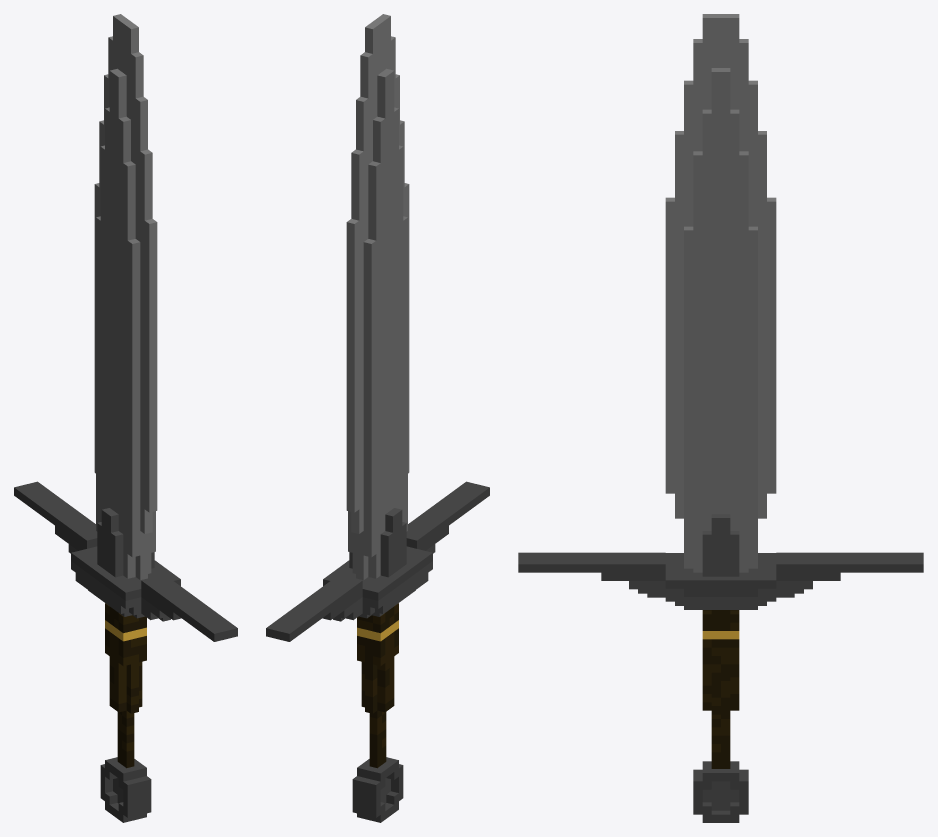
Rendered from broadsword.obj.
The picture shows the model from 3 angles, left to right: view 1: azimuth 30°, elevation 25°; view 2: azimuth 150°, elevation 25°; view 3: azimuth 270°, elevation 25°; orthographic projection.
Visible parts, largest first — view 1: Box_3, Box_8, Box_1, Box_2, Box_5, Box, Box_4, Box_7; view 2: Box_3, Box_8, Box_1, Box_2, Box_4, Box, Box_5, Box_7; view 3: Box_3, Box_8, Box_1, Box_2, Box_4, Box_5, Box, Box_7, Box_6.
Boxes of the visible parts, bbox=[...] form: Box_3: bbox=[96, 68, 155, 580]; Box_8: bbox=[94, 14, 157, 533]; Box_1: bbox=[105, 603, 146, 768]; Box_2: bbox=[71, 546, 180, 618]; Box_5: bbox=[141, 575, 237, 641]; Box: bbox=[100, 757, 151, 822]; Box_4: bbox=[14, 481, 97, 550]; Box_7: bbox=[97, 508, 154, 577]; Box_3: bbox=[348, 68, 407, 580]; Box_8: bbox=[346, 14, 409, 533]; Box_1: bbox=[357, 603, 398, 768]; Box_2: bbox=[323, 546, 432, 618]; Box_4: bbox=[266, 575, 362, 641]; Box: bbox=[352, 757, 403, 822]; Box_5: bbox=[406, 481, 489, 550]; Box_7: bbox=[349, 508, 406, 577]; Box_3: bbox=[684, 68, 757, 572]; Box_8: bbox=[665, 14, 776, 518]; Box_1: bbox=[702, 610, 739, 768]; Box_2: bbox=[665, 553, 776, 609]; Box_4: bbox=[776, 552, 923, 580]; Box_5: bbox=[518, 552, 665, 580]; Box: bbox=[693, 761, 748, 822]; Box_7: bbox=[702, 514, 739, 576]; Box_6: bbox=[629, 581, 812, 597].
Size of the model in its own units: 7 by 96 by 44.
1 material, 1 textured.
